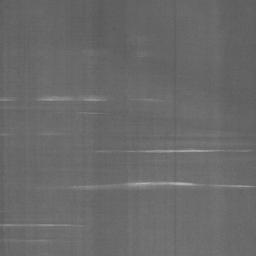Waist folding: (61, 180, 256, 191), (0, 94, 161, 103), (94, 147, 256, 155), (0, 222, 85, 229), (0, 131, 61, 138), (0, 238, 54, 244), (80, 111, 99, 116), (83, 48, 107, 51)
